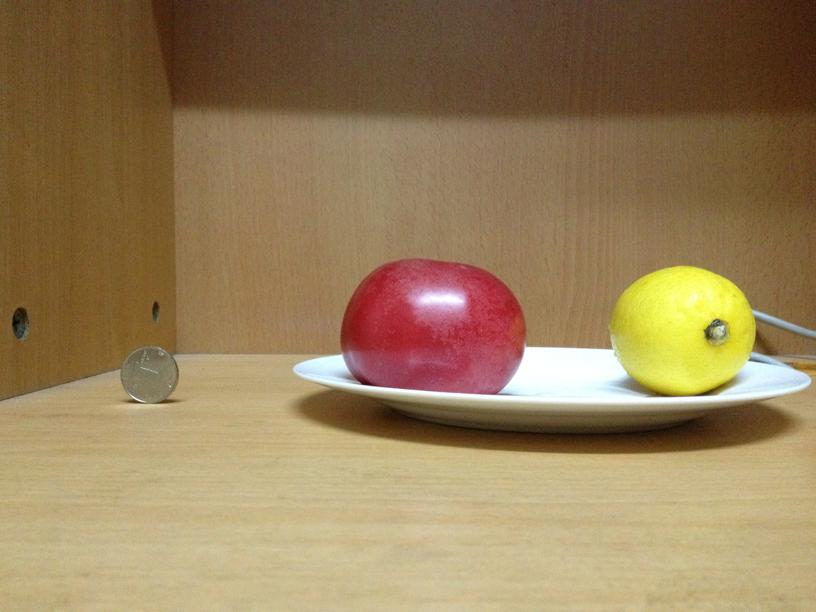coin: (119, 347, 179, 403)
lemon: (607, 261, 757, 395)
tomato: (337, 258, 525, 394)
